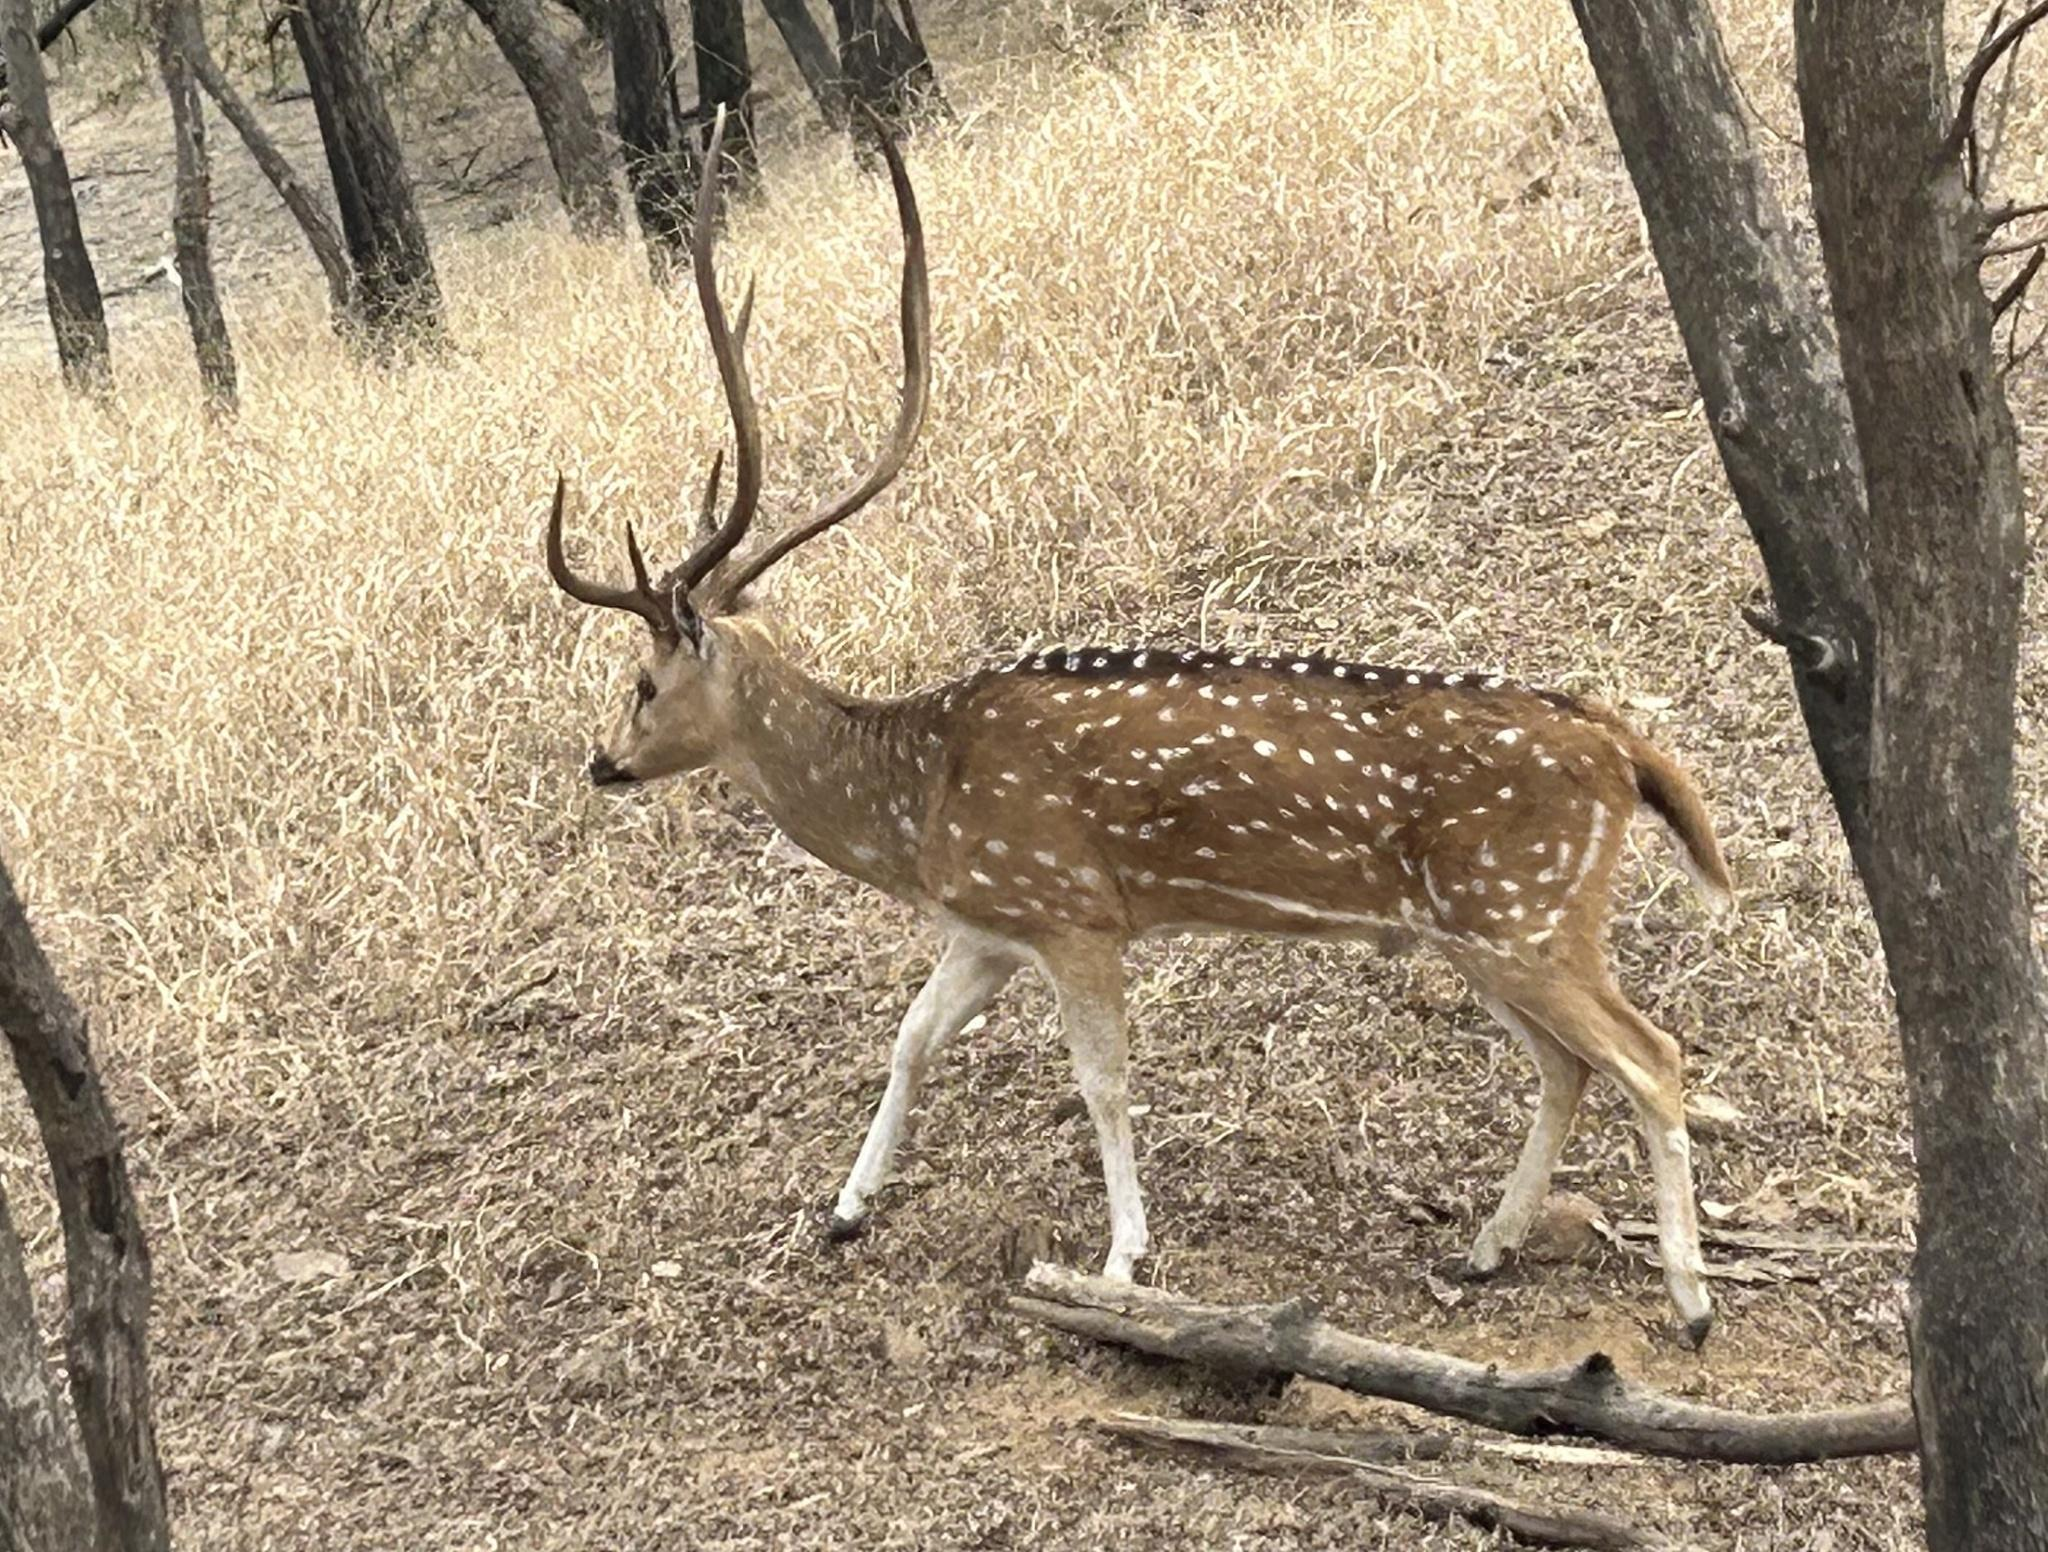Deer: (543, 143, 1732, 1343)
